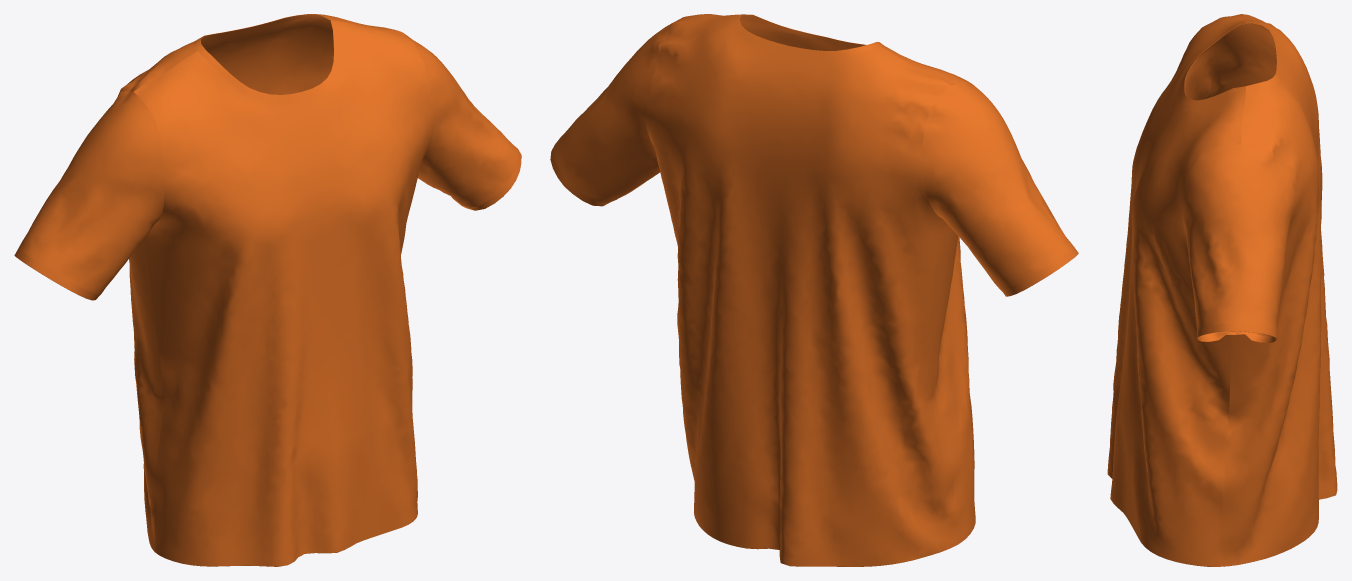
Rendered from t-shirt_orange.glb.
3 views of the same model, side by side, from view 1: azimuth 30°, elevation 25°; view 2: azimuth 150°, elevation 25°; view 3: azimuth 270°, elevation 25° (orthographic). The views are drawn at different scales.
Visible parts, largest first — view 1: node_id6, node_id9; view 2: node_id6, node_id9; view 3: node_id6, node_id9, node_id12.
Part boxes in pixels (<box>): node_id6: <box>14,14,521,566</box>; node_id9: <box>200,14,333,94</box>; node_id6: <box>550,14,1078,566</box>; node_id9: <box>739,15,865,50</box>; node_id6: <box>1107,14,1337,566</box>; node_id9: <box>1184,23,1276,342</box>; node_id12: <box>1118,23,1325,566</box>.
Size of the model in its own units: 0.6154 by 0.5761 by 0.2605.
3 materials, 3 textured.
